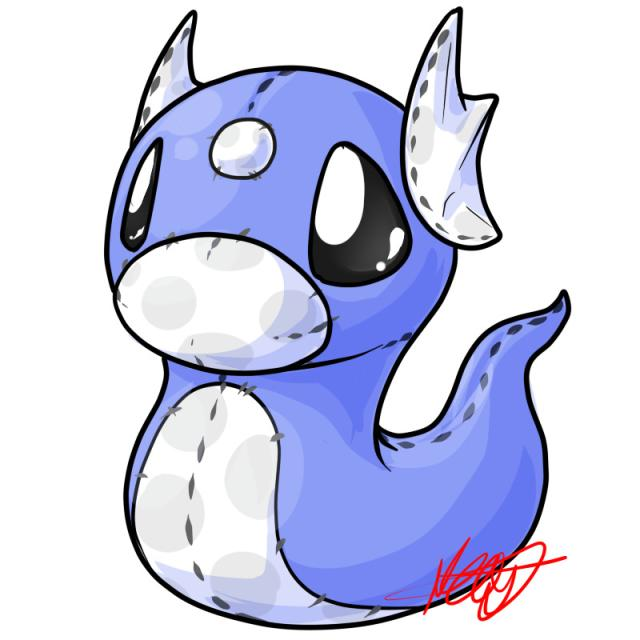Dratini: (78, 15, 480, 543)
